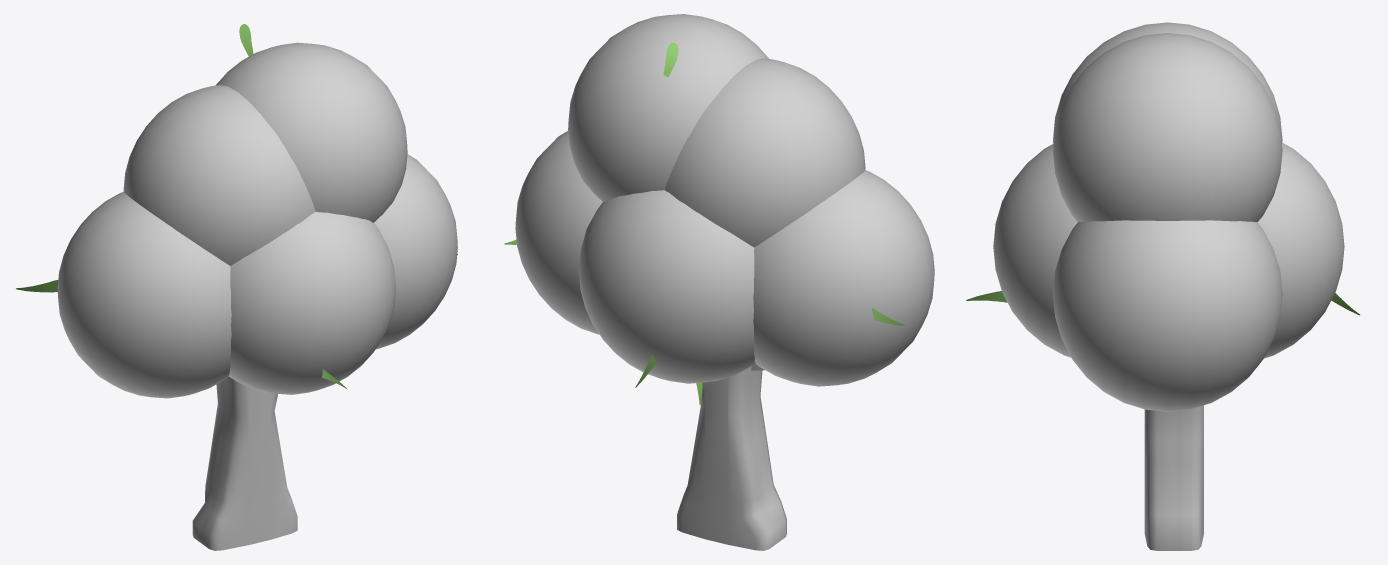
Rendered from Tree 1.fbx.
The picture shows the model from 3 angles, left to right: view 1: azimuth 30°, elevation 25°; view 2: azimuth 150°, elevation 25°; view 3: azimuth 270°, elevation 25°; orthographic projection. The views are drawn at different scales.
Visible parts, largest first — view 1: Sphere003; view 2: Sphere003; view 3: Sphere003.
Boxes of the visible parts, box(x1,y1,x2,y2) form: Sphere003: box(57, 42, 457, 550); Sphere003: box(515, 14, 934, 550); Sphere003: box(993, 22, 1344, 550).
Bounding box in the file's own units: 120 × 132 × 92.42.
